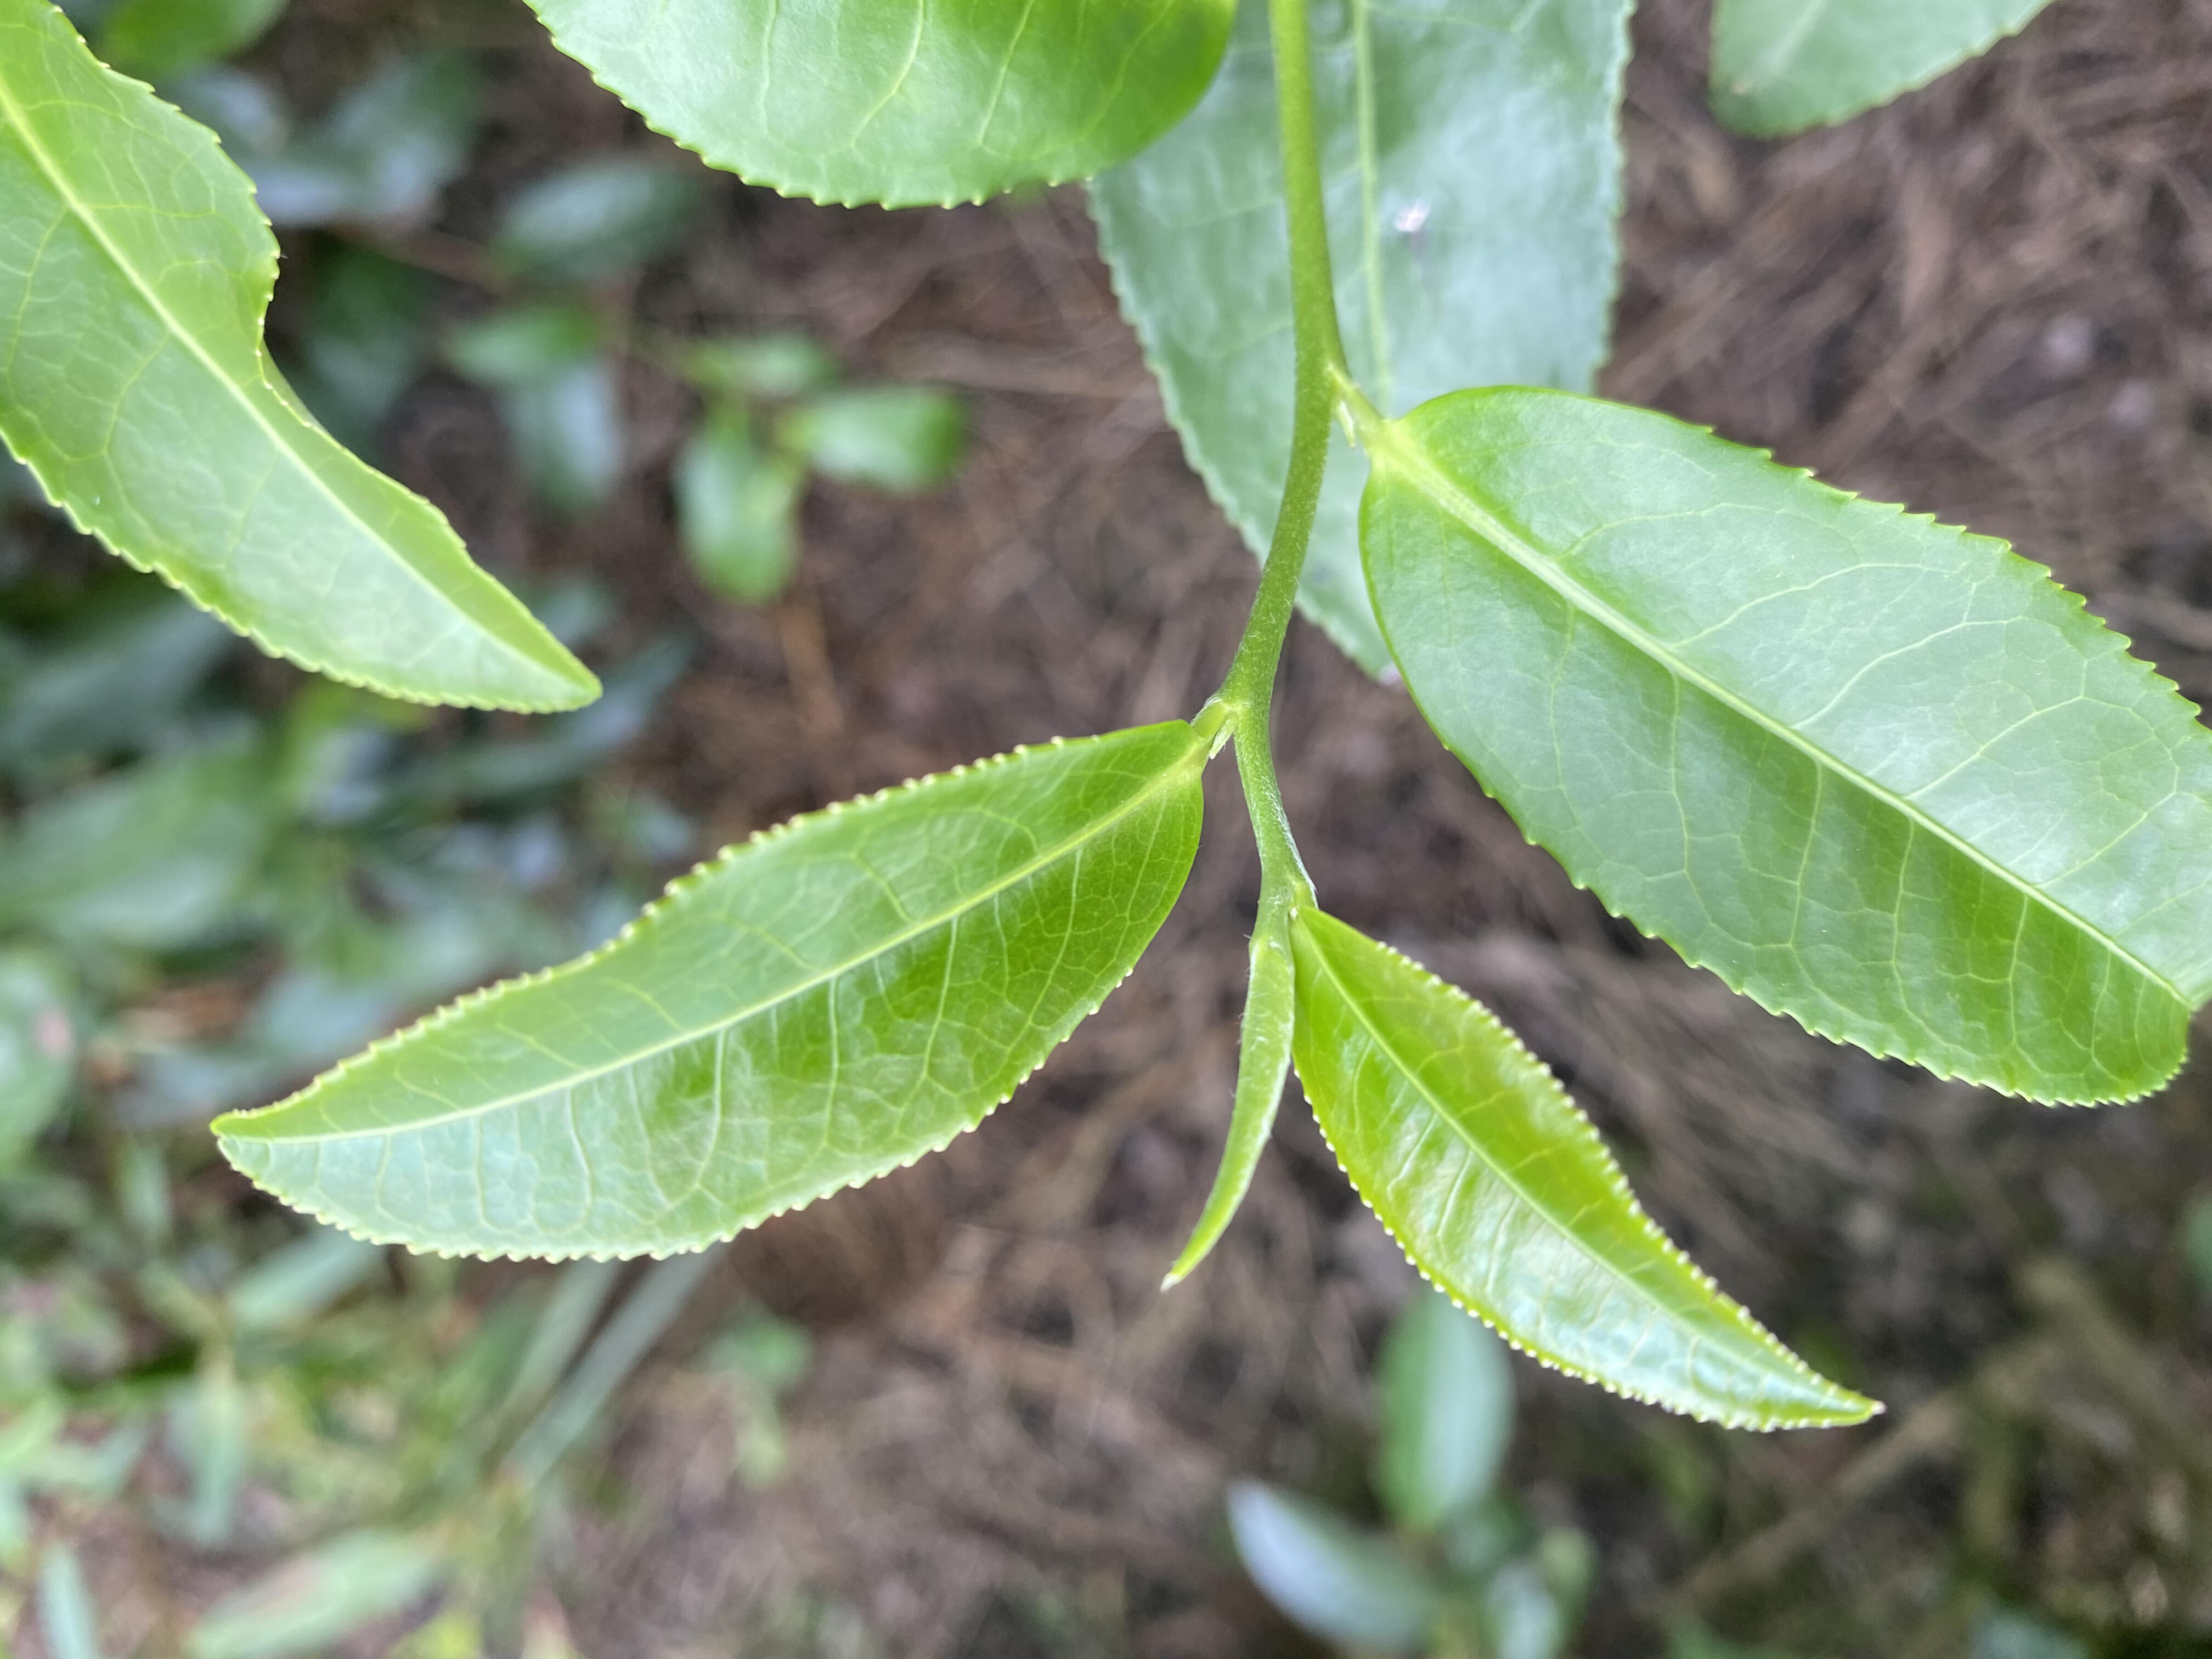healthy: (1355, 382, 2210, 1110), (209, 720, 1205, 1269), (3, 5, 603, 714), (1291, 908, 1883, 1434)
